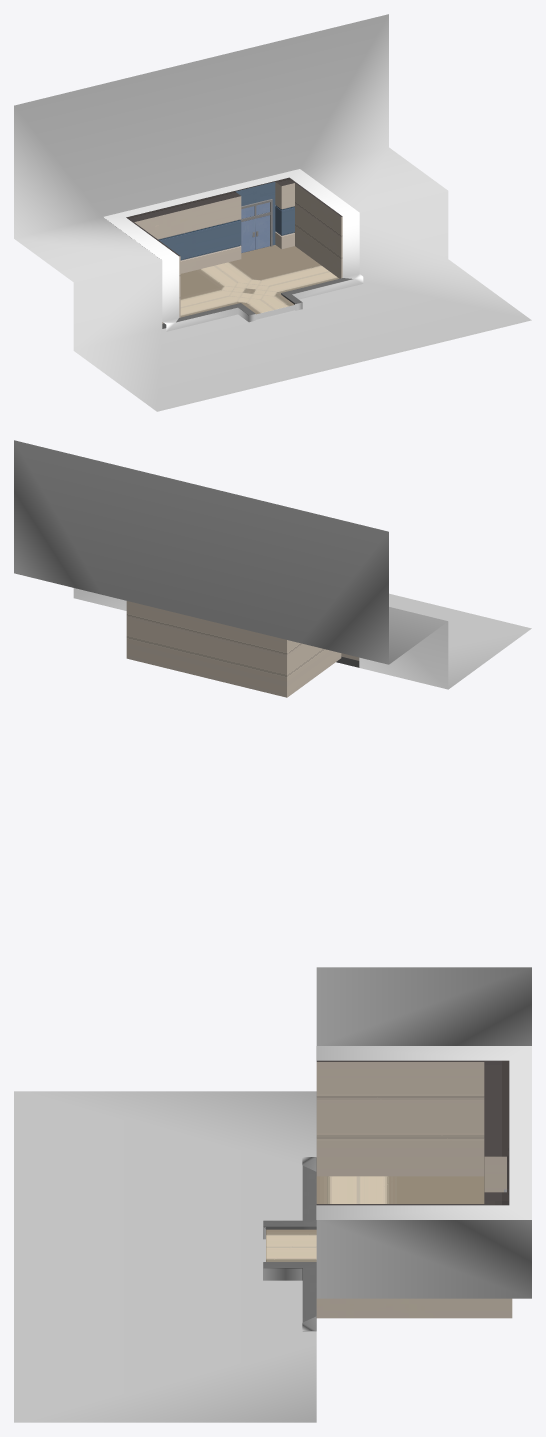
Rendered from a_com_building_b06.gltf.
3 views of the same model, one above another, from view 1: azimuth 30°, elevation 25°; view 2: azimuth 150°, elevation 25°; view 3: azimuth 270°, elevation 25° (orthographic). The views are drawn at different scales.
Visible parts, largest first — view 1: a_com_building_b06_outsideblank01_mesh_shape:a_com_building_, um_a_com_building_b06_model_a_com_building_b06_modelShape:a_ (×6), nomerge_outside_edge_shape:mat_texture_edge02, a_com_building_b06_ceiling01_mesh_shape:a_com_building_b06_c; view 2: a_com_building_b06_outsideblank01_mesh_shape:a_com_building_, um_a_com_building_b06_model_a_com_building_b06_modelShape:a_; view 3: a_com_building_b06_outsideblank01_mesh_shape:a_com_building_, um_a_com_building_b06_model_a_com_building_b06_modelShape:a_ (×4), nomerge_outside_edge_shape:mat_texture_edge02, a_com_building_b06_ceiling01_mesh_shape:a_com_building_b06_c.
Part boxes in pixels (x1,y1,x2,y2): a_com_building_b06_outsideblank01_mesh_shape:a_com_building_: (14, 14, 531, 411); um_a_com_building_b06_model_a_com_building_b06_modelShape:a_ (×6): (134, 182, 352, 328); nomerge_outside_edge_shape:mat_texture_edge02: (103, 169, 363, 331); a_com_building_b06_ceiling01_mesh_shape:a_com_building_b06_c: (126, 177, 342, 256); a_com_building_b06_outsideblank01_mesh_shape:a_com_building_: (14, 440, 531, 689); um_a_com_building_b06_model_a_com_building_b06_modelShape:a_: (126, 601, 359, 697); a_com_building_b06_outsideblank01_mesh_shape:a_com_building_: (14, 967, 531, 1422); um_a_com_building_b06_model_a_com_building_b06_modelShape:a_ (×4): (263, 1062, 512, 1331); nomerge_outside_edge_shape:mat_texture_edge02: (263, 1046, 531, 1330); a_com_building_b06_ceiling01_mesh_shape:a_com_building_b06_c: (316, 1060, 509, 1205).
Size of the model in its own units: 28 by 14.38 by 18.5.
9 materials, 7 textured.
